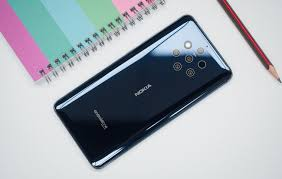nokia: (45, 13, 239, 170)
